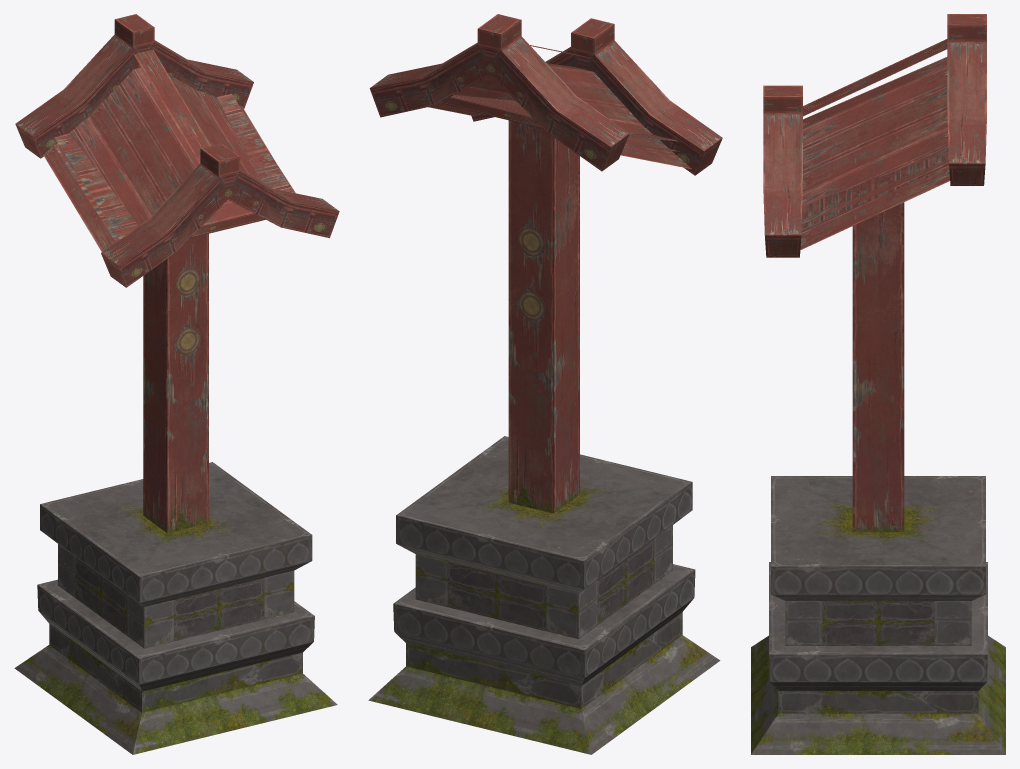
File: b_zx_yuanmen02_01_lod1.FBX
The picture shows the model from 3 angles, left to right: view 1: azimuth 30°, elevation 25°; view 2: azimuth 150°, elevation 25°; view 3: azimuth 270°, elevation 25°; orthographic projection. The views are drawn at different scales.
Parts seen in each view (by area): view 1: b_zx_yuanmen02_01_lod1; view 2: b_zx_yuanmen02_01_lod1; view 3: b_zx_yuanmen02_01_lod1.
Boxes of the visible parts, x1,y1,x2,y2 form: b_zx_yuanmen02_01_lod1: [14, 14, 339, 754]; b_zx_yuanmen02_01_lod1: [368, 14, 722, 754]; b_zx_yuanmen02_01_lod1: [751, 14, 1005, 754].
Size of the model in its own units: 1.92 by 5.23 by 1.77.
